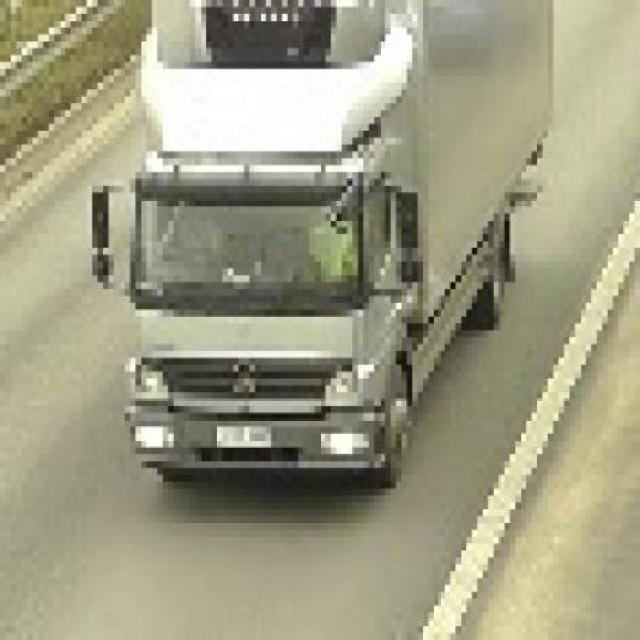truck: (87, 1, 549, 490)
